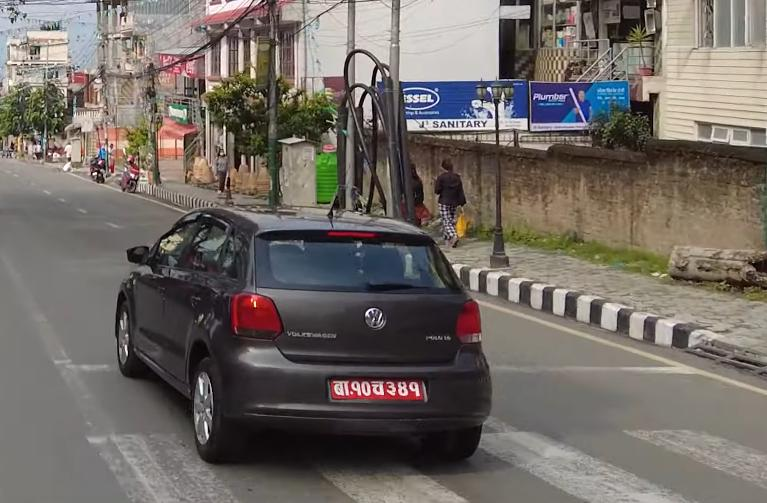car: (116, 205, 499, 466)
scooter: (119, 157, 139, 194)
